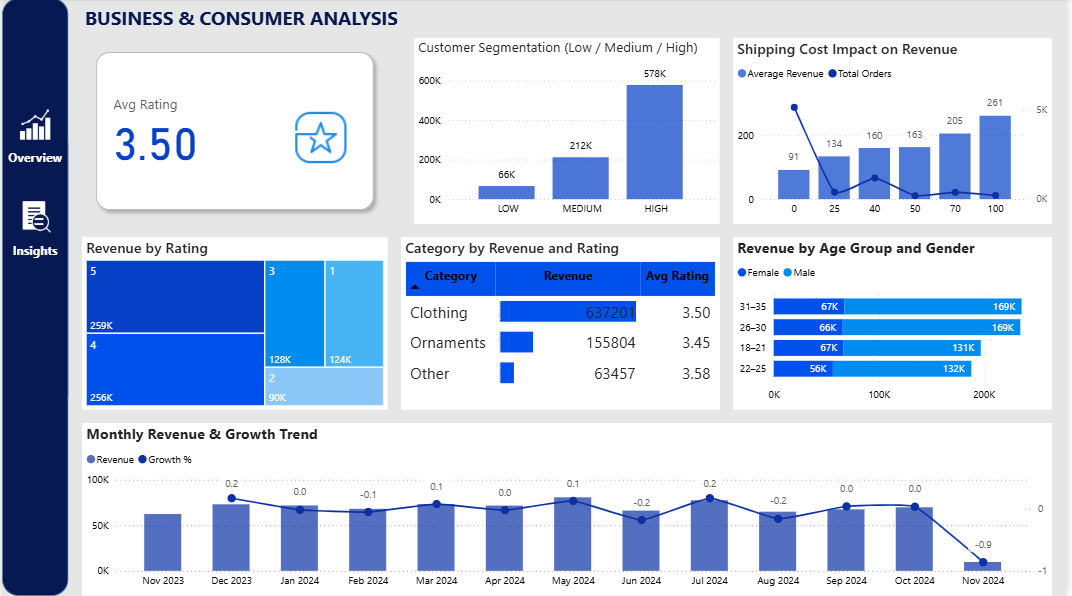

This screenshot's page, from the dashboard's own definition file:
{"tool":"powerbi","page":{"name":"Customer Analysis","canvas":[1280,720],"ordinal":1},"visuals":[{"type":"shape","box":[0,0,80,720],"z":0},{"type":"columnChart","title":"Customer Segmentation (Low / Medium / High)","fields":{"Category":["sales_projects merch_table.Customer Tier"],"Y":["sales_projects merch_table.Revenue"]},"box":[496,48,368,224],"z":1000},{"type":"lineClusteredColumnComboChart","title":"Monthly Revenue & Growth Trend","fields":{"Category":["DateTable.Month Year"],"Y":["sales_projects merch_table.Total Revenue"],"Y2":["sales_projects merch_table.%rev growth"]},"box":[96,512,1168,208],"z":2000},{"type":"barChart","title":"Revenue by Age Group and Gender","fields":{"Category":["sales_projects merch_table.Age Group"],"Y":["sales_projects merch_table.Revenue"],"Series":["sales_projects merch_table.buyer_gender"]},"box":[880,288,384,208],"z":3000},{"type":"lineClusteredColumnComboChart","title":"Shipping Cost Impact on Revenue","fields":{"Category":["sales_projects merch_table.shipping_charges"],"Y":["sales_projects merch_table.Average Revenue"],"Y2":["sales_projects merch_table.Total Orders"]},"box":[880,48,384,224],"z":4000},{"type":"treemap","title":"Revenue by Rating","fields":{"Group":["sales_projects merch_table.rating"],"Values":["sales_projects merch_table.Revenue"]},"box":[96,288,368,208],"z":5000},{"type":"tableEx","title":"Category by Revenue and Rating","fields":{"Values":["sales_projects merch_table.product_category","sales_projects merch_table.Revenue","sales_projects merch_table.avg rating"]},"box":[480,288,384,208],"z":6000},{"type":"cardVisual","fields":{"Data":["sales_projects merch_table.avg rating"]},"box":[96,48,368,224],"z":7000},{"type":"shape","box":[96,0,384,48],"z":8000},{"type":"image","box":[336,112,96,112],"z":10000},{"type":"image","box":[0,128,80,48],"z":10001},{"type":"image","box":[0,240,80,48],"z":10002},{"type":"shape","box":[0,176,80,32],"z":10003},{"type":"shape","box":[0,288,80,32],"z":10004}]}

Visuals, with their boxes on the page's 1280x720 design canvas (x1, y1, x2, y2). These are canvas units, not pixel positions in the 1072x596 screenshot, which may show the page scaled, cropped or inside an application window:
shape: x1=0, y1=0, x2=80, y2=720
"Customer Segmentation (Low / Medium / High)" columnChart: x1=496, y1=48, x2=864, y2=272
"Monthly Revenue & Growth Trend" lineClusteredColumnComboChart: x1=96, y1=512, x2=1264, y2=720
"Revenue by Age Group and Gender" barChart: x1=880, y1=288, x2=1264, y2=496
"Shipping Cost Impact on Revenue" lineClusteredColumnComboChart: x1=880, y1=48, x2=1264, y2=272
"Revenue by Rating" treemap: x1=96, y1=288, x2=464, y2=496
"Category by Revenue and Rating" tableEx: x1=480, y1=288, x2=864, y2=496
cardVisual - sales_projects merch_table.avg rating: x1=96, y1=48, x2=464, y2=272
shape: x1=96, y1=0, x2=480, y2=48
image: x1=336, y1=112, x2=432, y2=224
image: x1=0, y1=128, x2=80, y2=176
image: x1=0, y1=240, x2=80, y2=288
shape: x1=0, y1=176, x2=80, y2=208
shape: x1=0, y1=288, x2=80, y2=320
